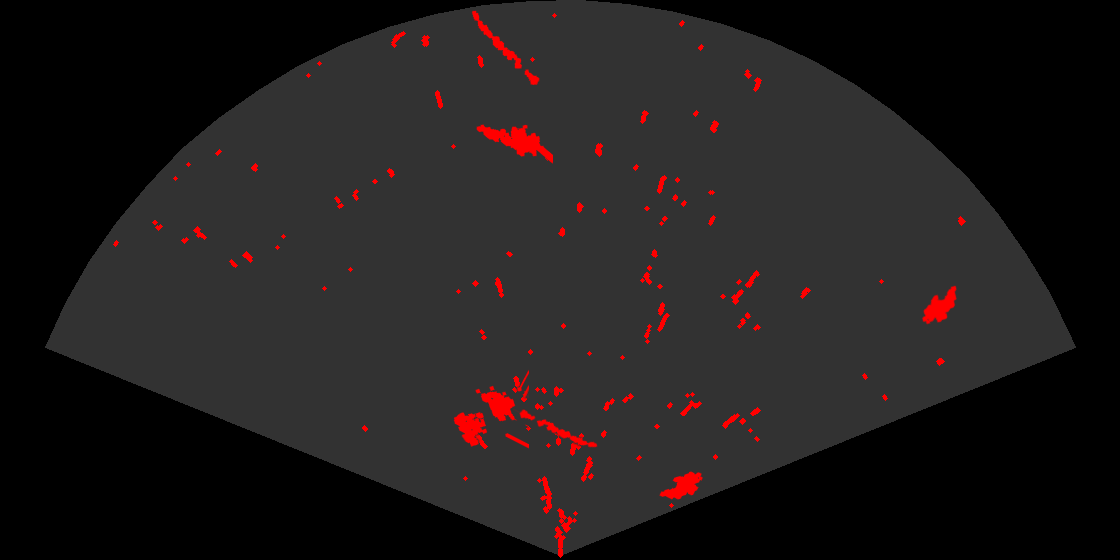AUV: (920, 284, 958, 326), (658, 470, 704, 501)
cage: (452, 369, 529, 450)
chain: (470, 9, 541, 87), (511, 407, 599, 449)
frogman: (475, 123, 553, 165)
